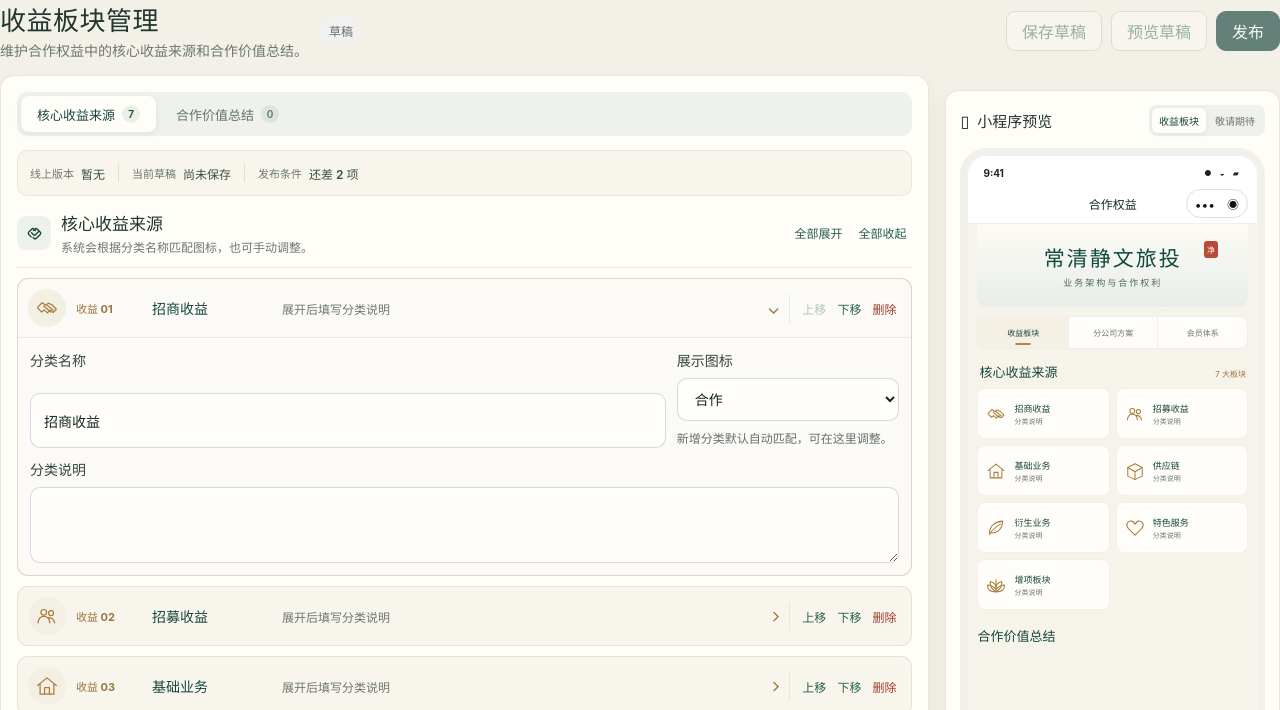
it: Cooperation operations pages › presents revenue and cooperation value as operational sections
Expected: the heading "收益板块管理" is shown, [0,7,159,36]
Expected: the heading "核心收益来源" is shown, [61,214,163,234]
What coordinates should you click on to do the following:
click the button with aria-label "收起收益分类 1"
I would click on:
 (47, 308)
Its box is [28,289,780,327].
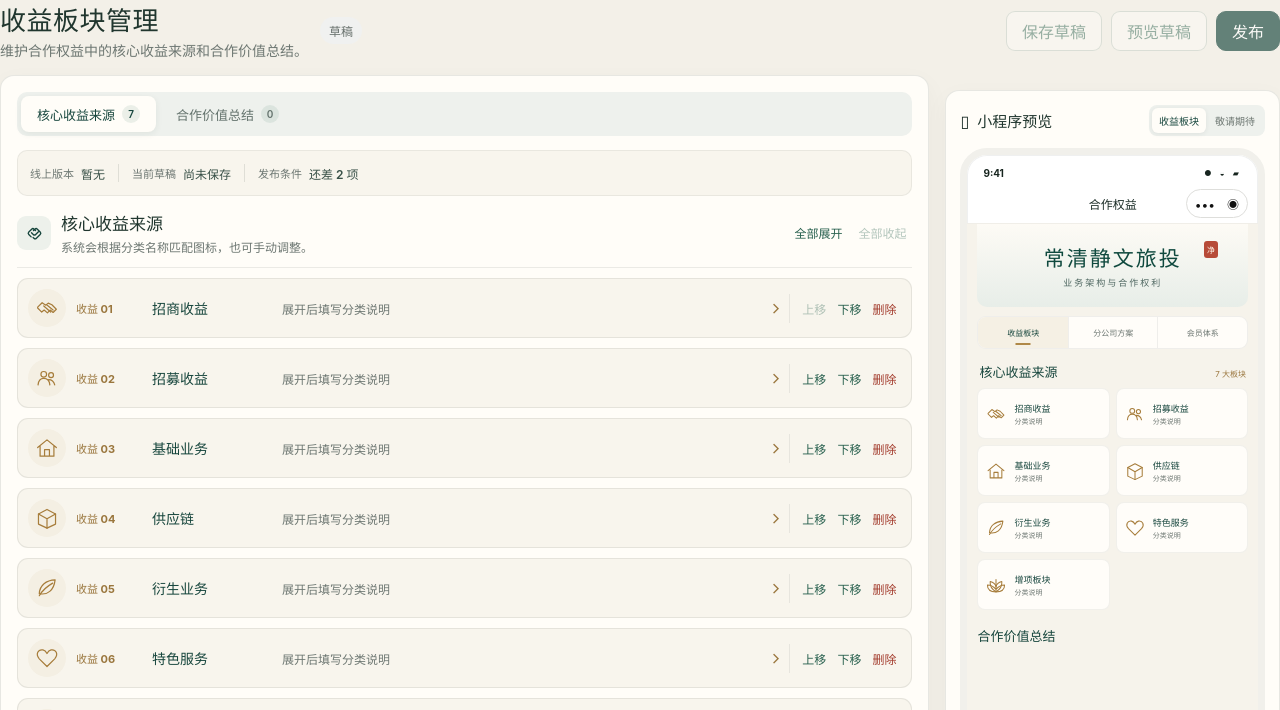
What coordinates should you click on to do the following:
click the button "敬请期待"
I would click on:
 (1235, 120)
Its box is [1208,108,1262,133].
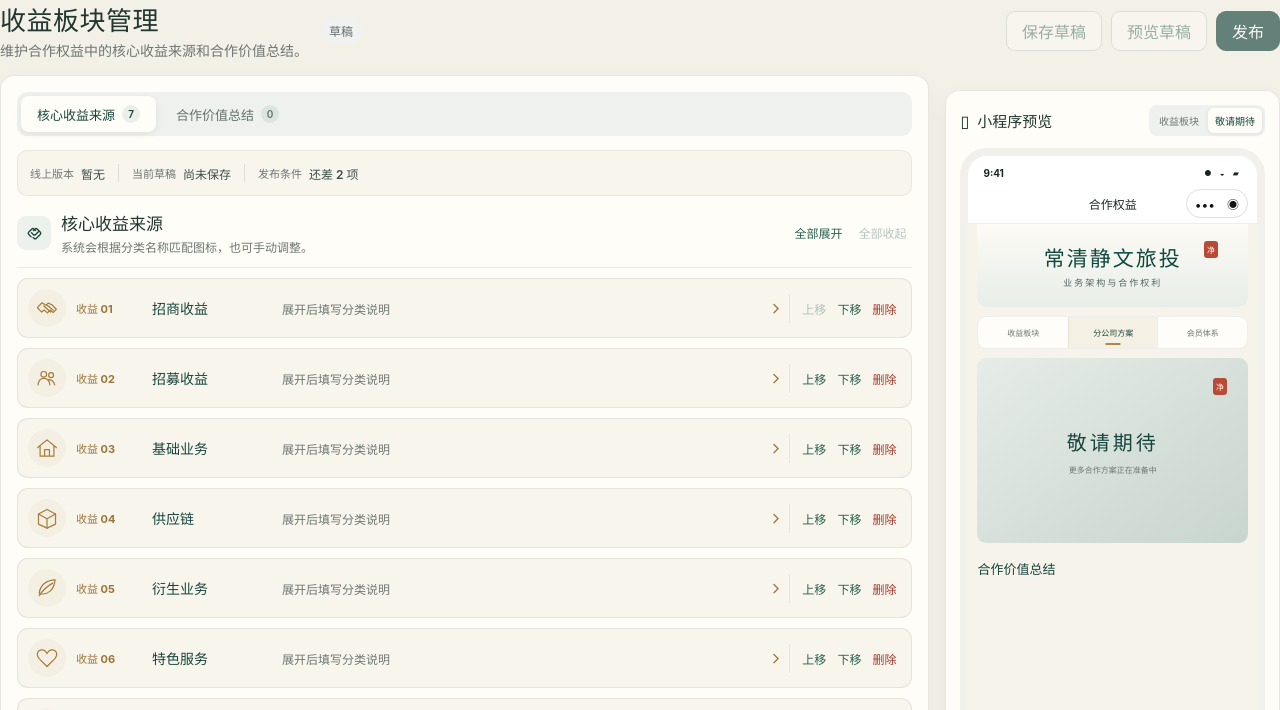
Expected: the text "更多合作方案正在准备中" is shown, [1069,464,1157,474]
What coordinates should you click on to do the following:
click the tab "合作价值总结 0"
I would click on:
 (228, 114)
Its box is [160,96,295,132].
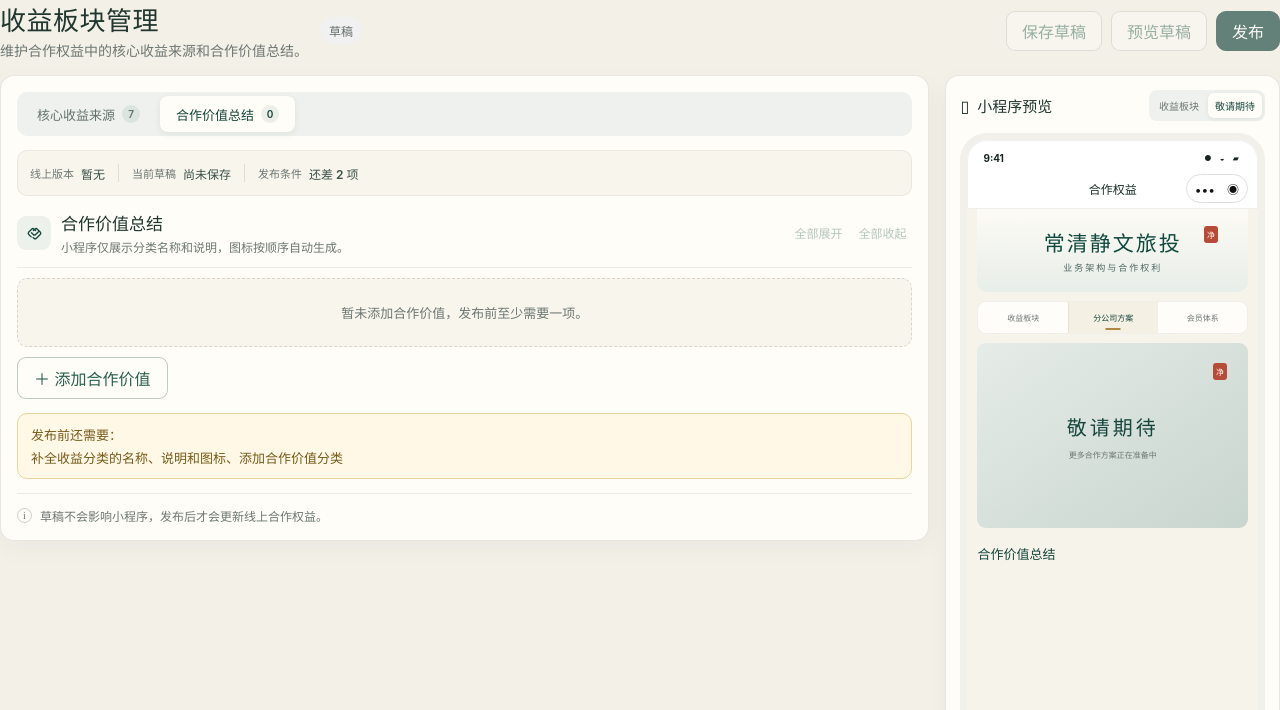
Expected: the heading "合作价值总结" is shown, [61,214,163,234]
Expected: the button "＋ 添加合作价值" is shown, [17,357,168,399]
